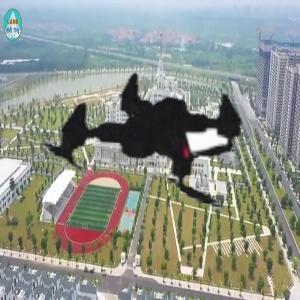drone: (1, 3, 297, 299)
